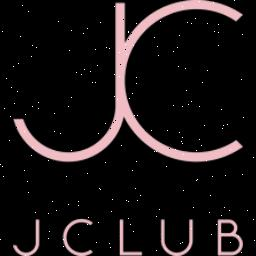c: (116, 0, 244, 168)
j: (14, 0, 128, 164)
